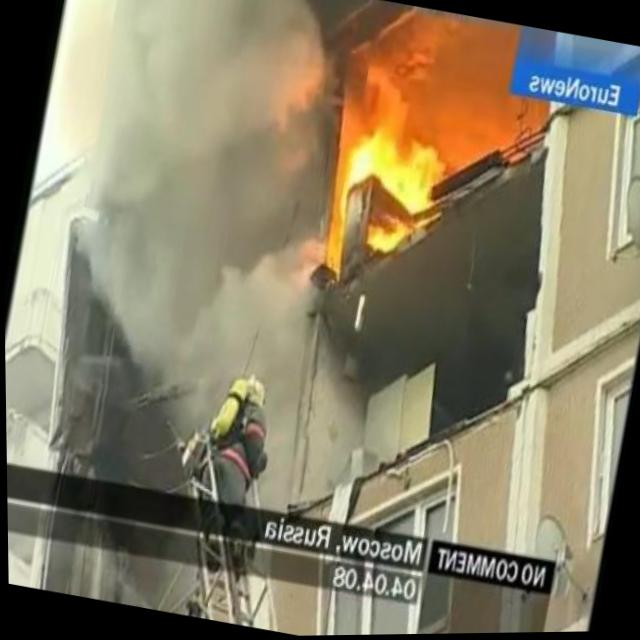fire: (324, 98, 458, 268)
